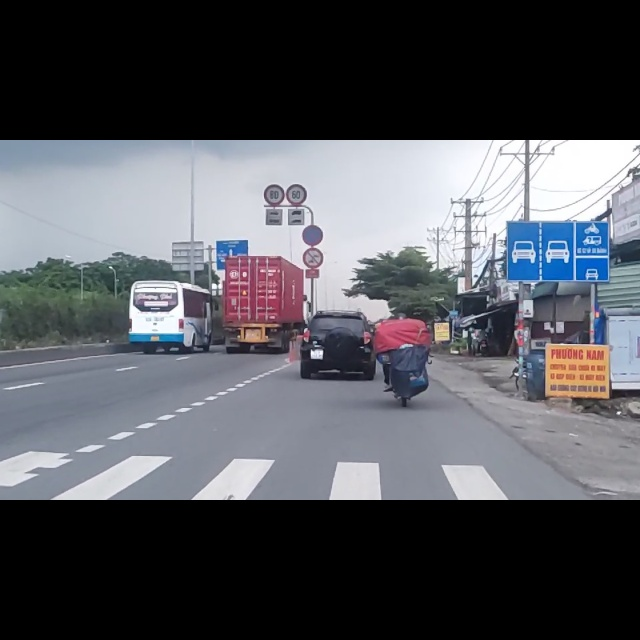bien_cam: (507, 143, 610, 254), (301, 151, 324, 187), (287, 78, 307, 116), (264, 79, 285, 115), (303, 192, 323, 228)
